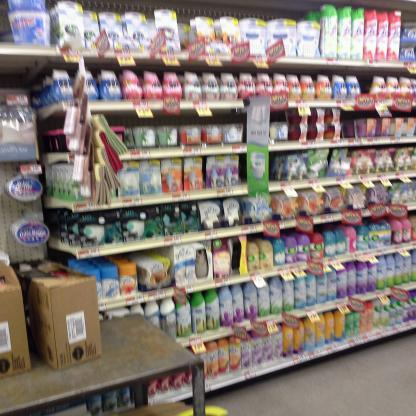Void: (9, 64, 36, 86), (274, 153, 282, 183)
